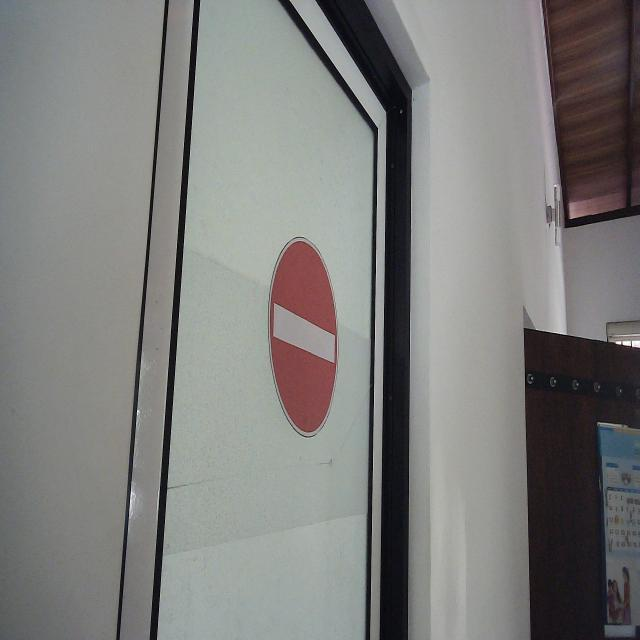no_entry: (266, 234, 340, 439)
